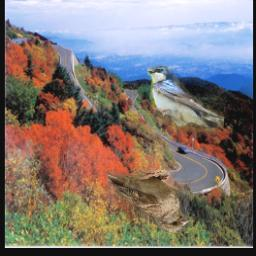Sparrow: (109, 171, 191, 233)
Swallow: (148, 66, 225, 135)
